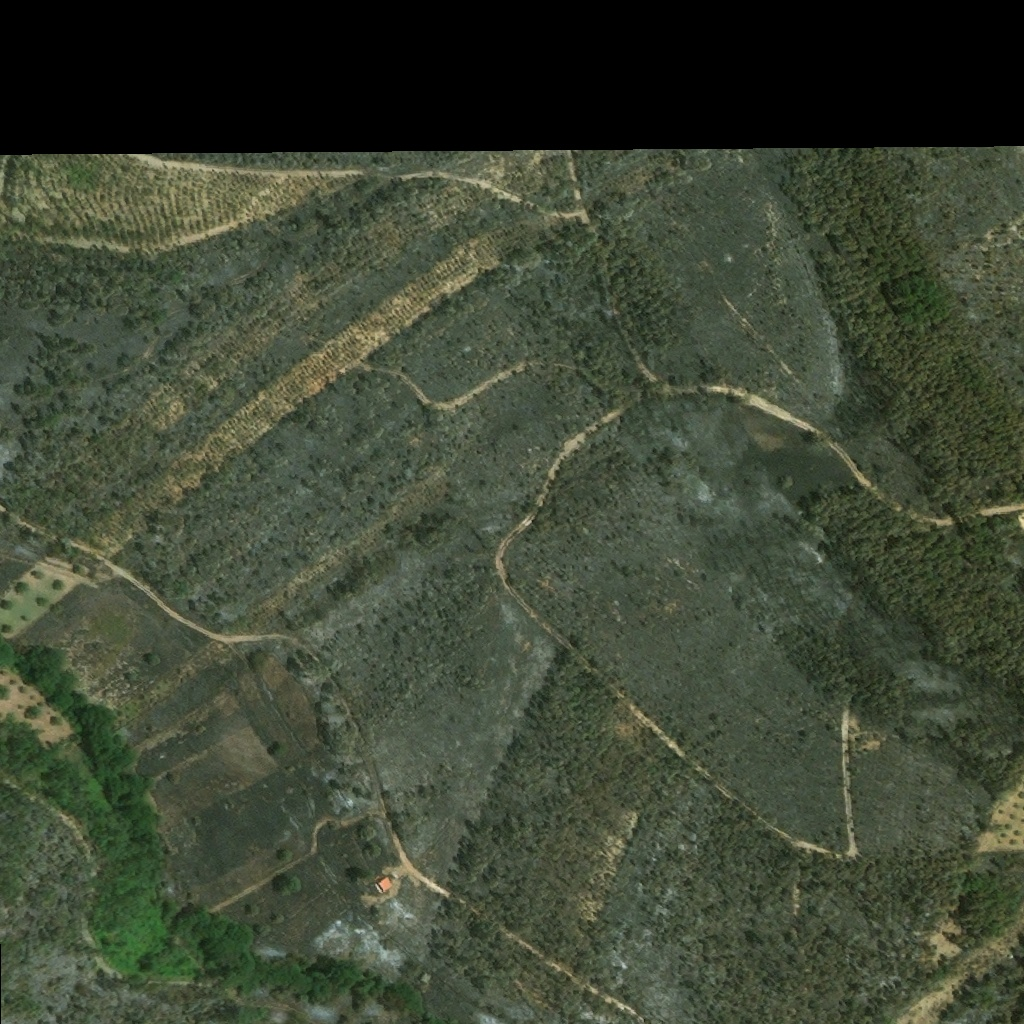0 no-damage: (376, 875, 393, 899)
